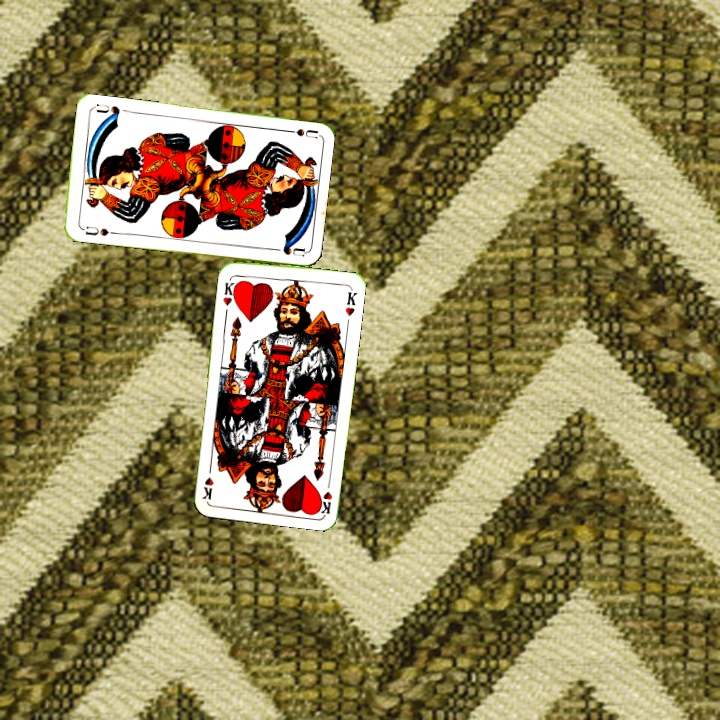HK: (315, 474, 335, 515), (219, 273, 240, 308)
SU: (77, 222, 118, 239), (278, 125, 319, 141)
